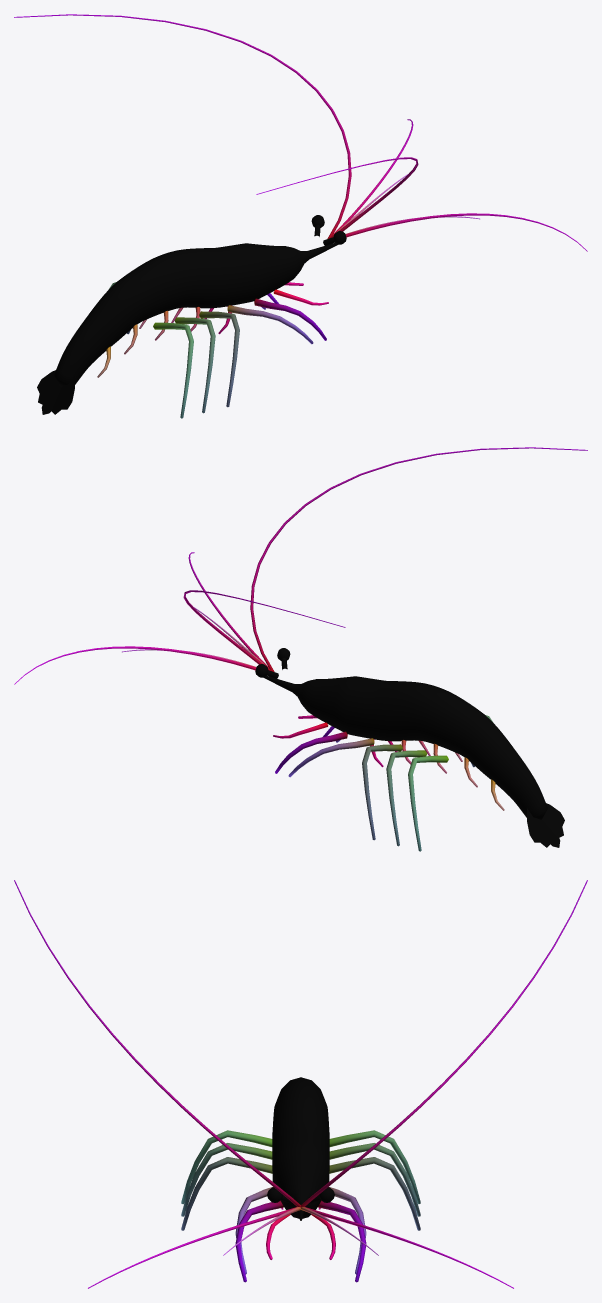
Rendered from skunk_shrimp.glb.
3 views of the same model, one above another, from view 1: azimuth 30°, elevation 25°; view 2: azimuth 150°, elevation 25°; view 3: azimuth 270°, elevation 25° (orthographic). The views are drawn at different scales.
Parts seen in each view (by area): view 1: Body, Legs, Antennae; view 2: Body, Legs, Antennae; view 3: Legs, Body, Antennae.
Boxes of the visible parts, left/top/right/bottom form: Body: left=37, top=242, right=338, bottom=414; Legs: left=97, top=282, right=328, bottom=418; Antennae: left=14, top=14, right=587, bottom=251; Body: left=263, top=675, right=564, bottom=847; Legs: left=273, top=715, right=504, bottom=851; Antennae: left=14, top=447, right=587, bottom=684; Legs: left=181, top=1130, right=420, bottom=1282; Body: left=272, top=1077, right=329, bottom=1220; Antennae: left=14, top=880, right=587, bottom=1288.
Bounding box in the file's own units: 1.46 × 0.8811 × 1.35.
2 materials, 1 textured.
